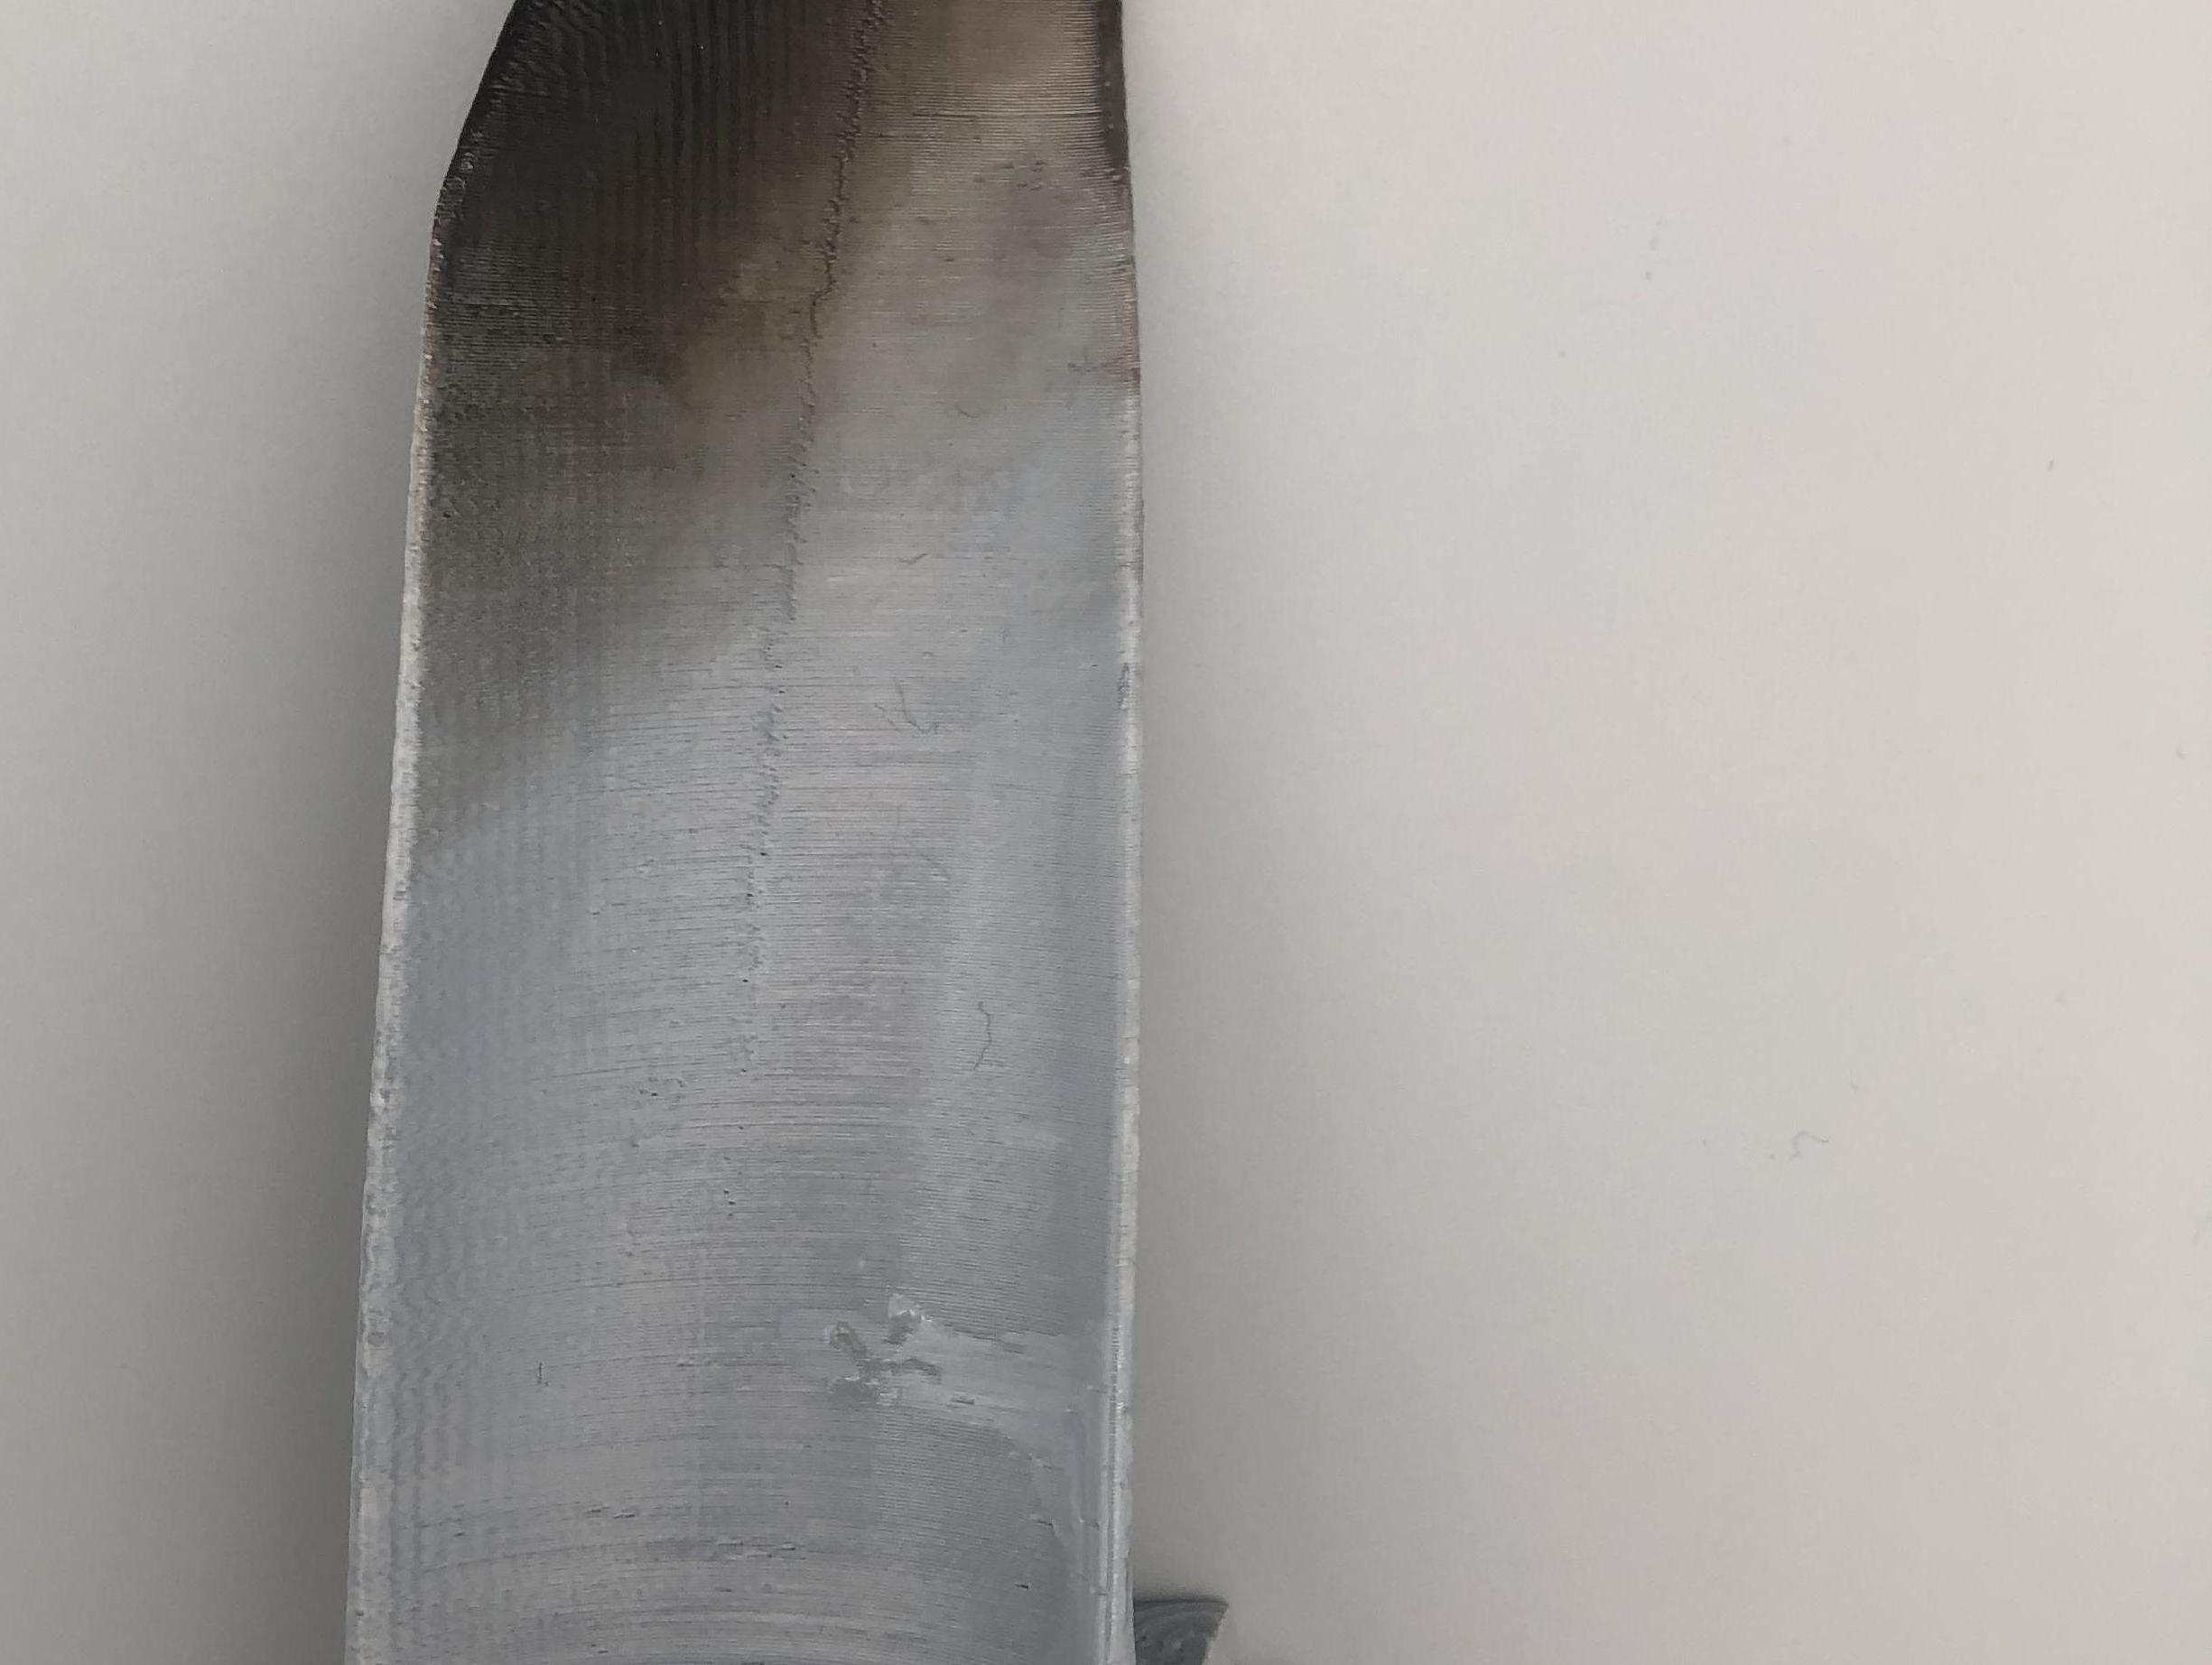ablation: (479, 19, 983, 449)
